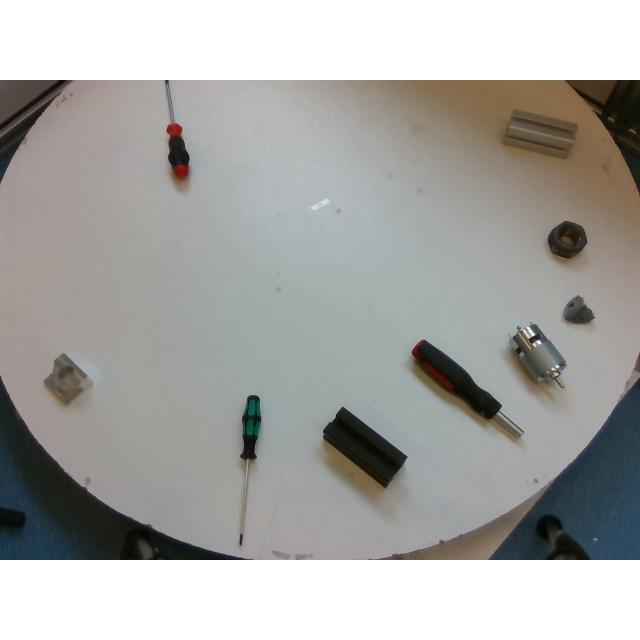M30: (547, 222, 587, 258)
Motor2: (510, 322, 566, 388)
S40_40_B: (322, 407, 406, 487)
S40_40_G: (503, 110, 577, 158)
Screwdriver: (238, 394, 260, 546)
